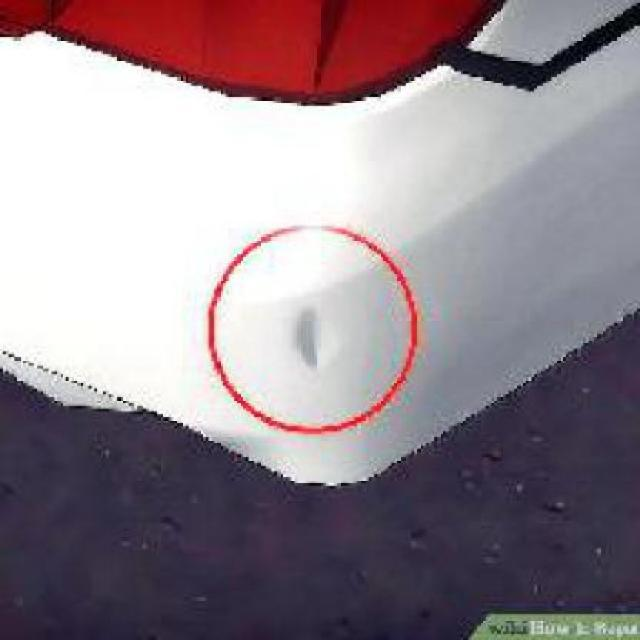dent-or-scratch: (278, 304, 334, 374)
